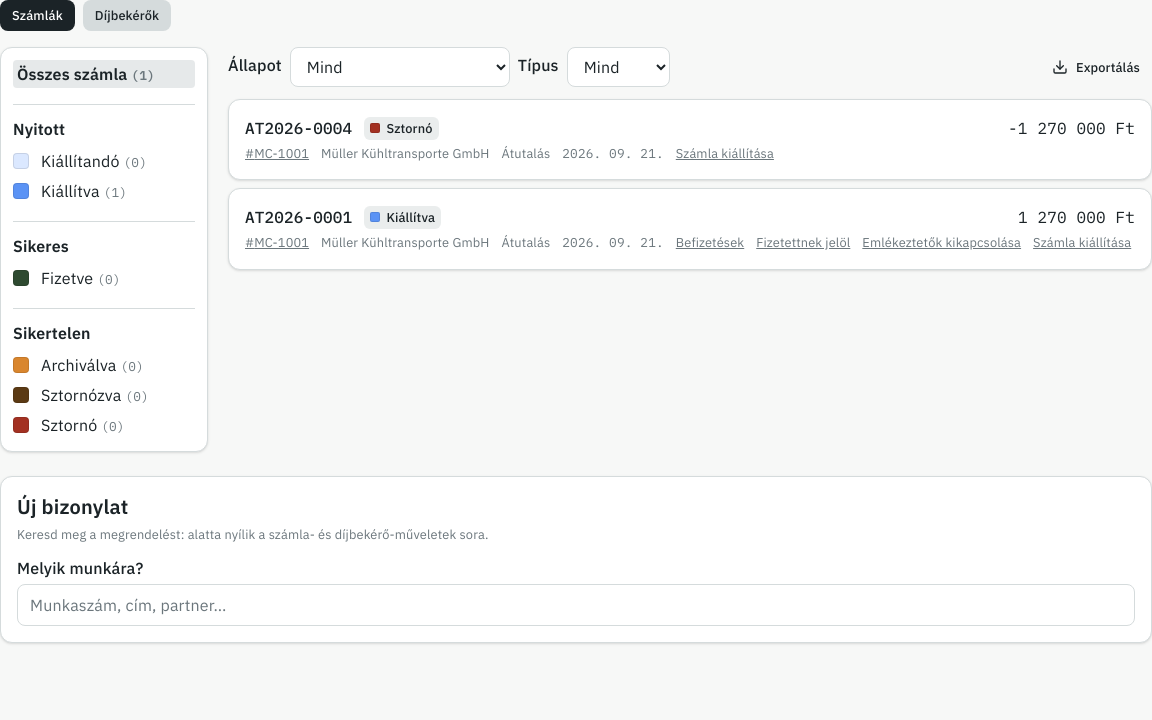
Scenario: Számlázó page › picking an order from search opens its invoice section
Expected: the text "AT2026-0001" is shown, [245,205,352,229]
In the field labelled "Melyik munkára?": (576, 605) [17,584,1135,626], type "MC-10"
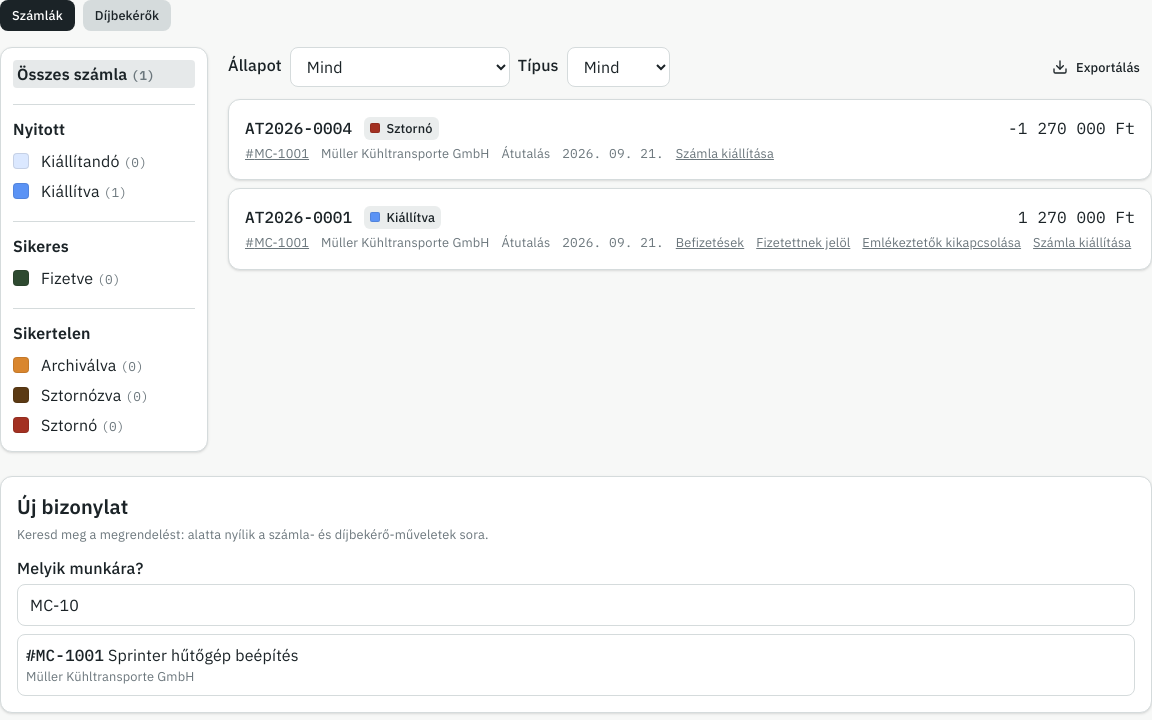
Click the button "MC-1001": (70, 655) [17,634,1135,696]
(page scrolled)
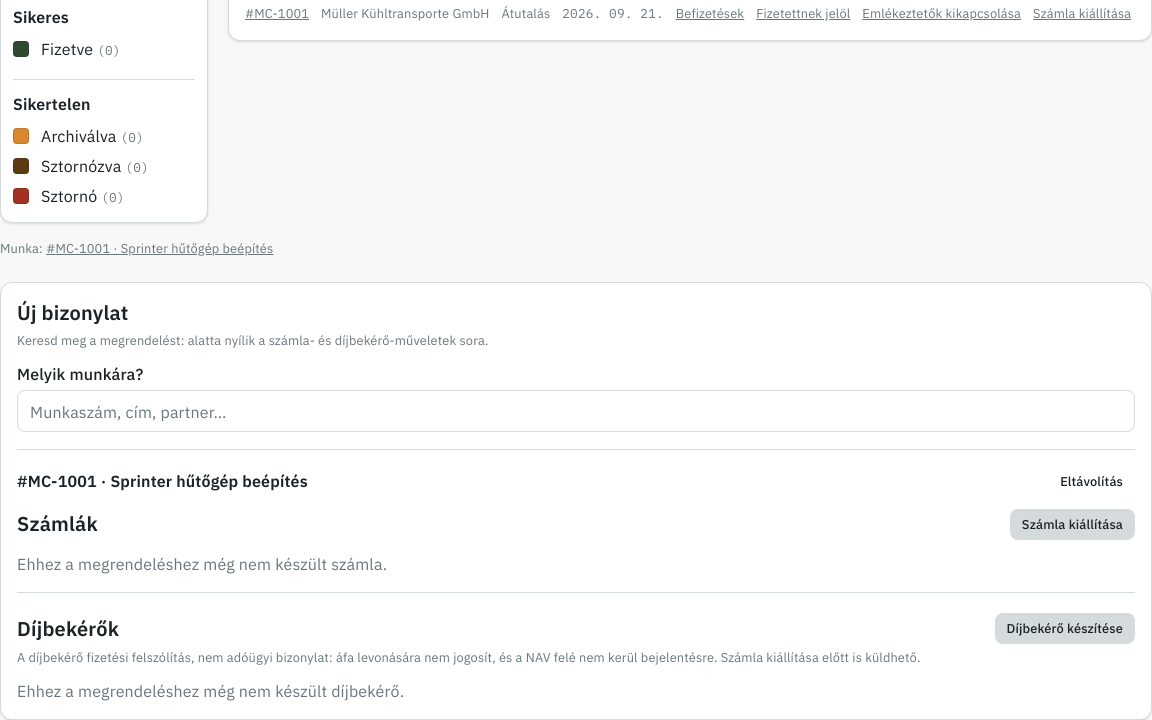
Result: the button "Díjbekérő készítése" is shown at [995,613,1135,644]
